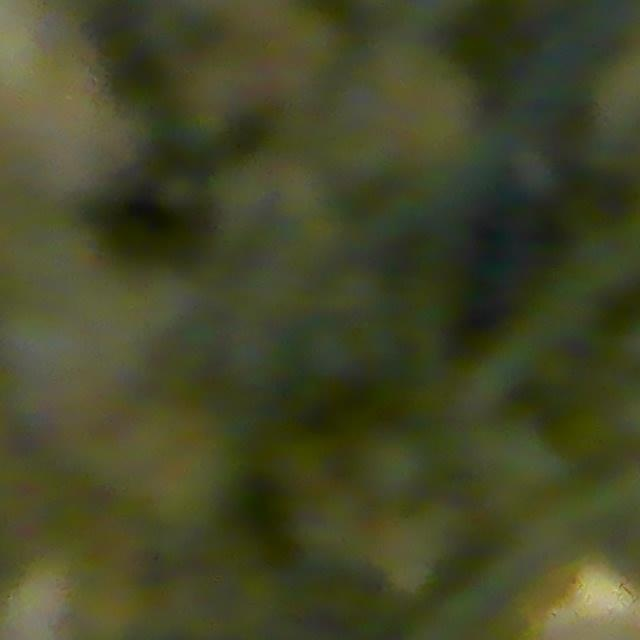SeaGrape: (356, 427, 436, 510)
